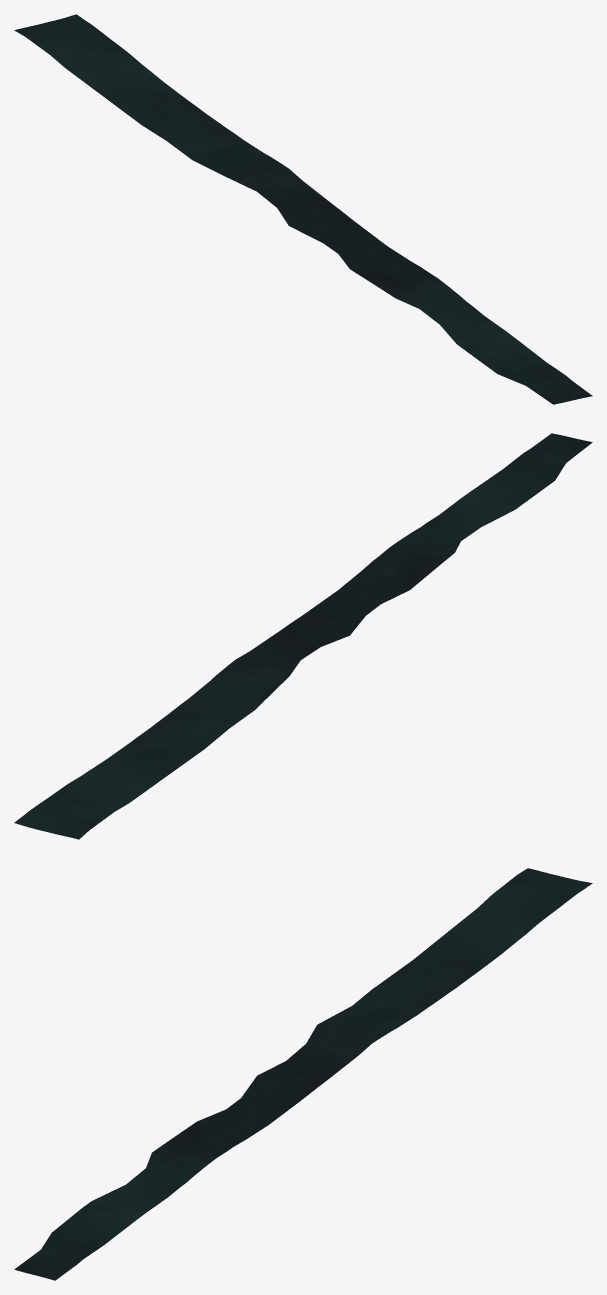
3 renders of one model, top to bottom at view 1: azimuth 30°, elevation 25°; view 2: azimuth 150°, elevation 25°; view 3: azimuth 330°, elevation 25°, orthographic. The views are drawn at different scales.
Size of the model in its own units: 7.3 by 0.9327 by 104.
Materials: 1 (1 with a texture image).
